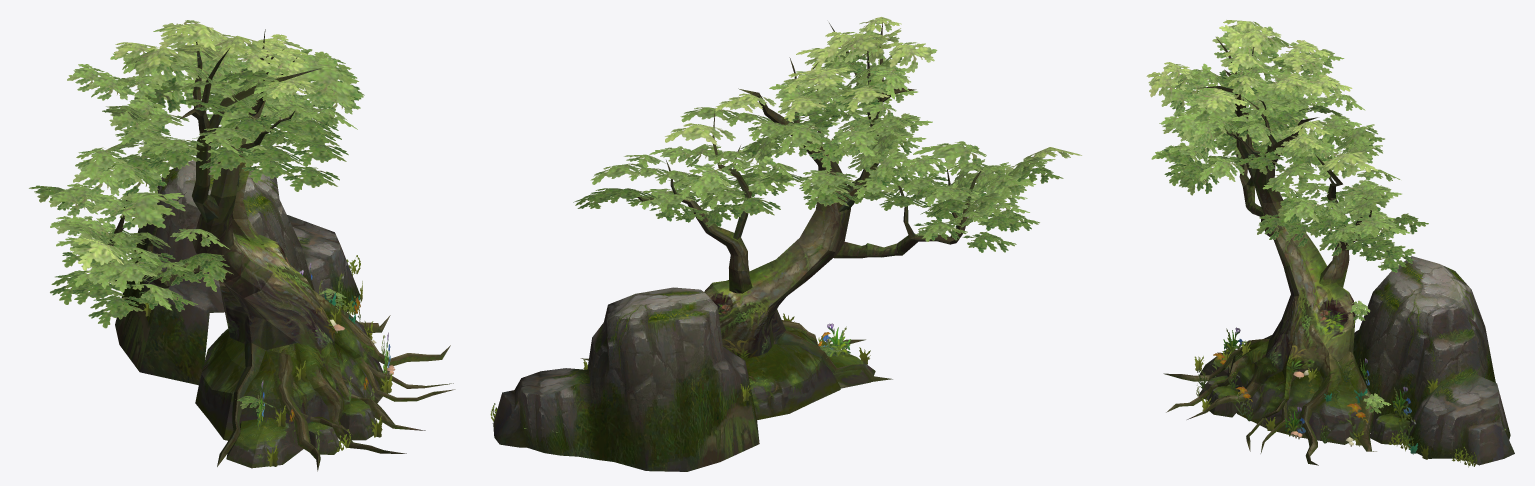
Rendered from Map01_Tree_01.FBX.
3 views of the same model, side by side, from view 1: azimuth 30°, elevation 25°; view 2: azimuth 150°, elevation 25°; view 3: azimuth 270°, elevation 25° (orthographic). The views are drawn at different scales.
Visible parts, largest first — view 1: Map01_Tree_01, Map01_ShuYe_01; view 2: Map01_Tree_01, Map01_ShuYe_01; view 3: Map01_Tree_01, Map01_ShuYe_01.
Boxes of the visible parts, x1,y1,x2,y2 form: Map01_Tree_01: (108,29,455,471); Map01_ShuYe_01: (29,20,395,466); Map01_Tree_01: (492,22,983,471); Map01_ShuYe_01: (490,17,1081,432); Map01_Tree_01: (1163,37,1514,465); Map01_ShuYe_01: (1146,20,1505,467).
Bounding box in the file's own units: 930 × 799 × 747.
